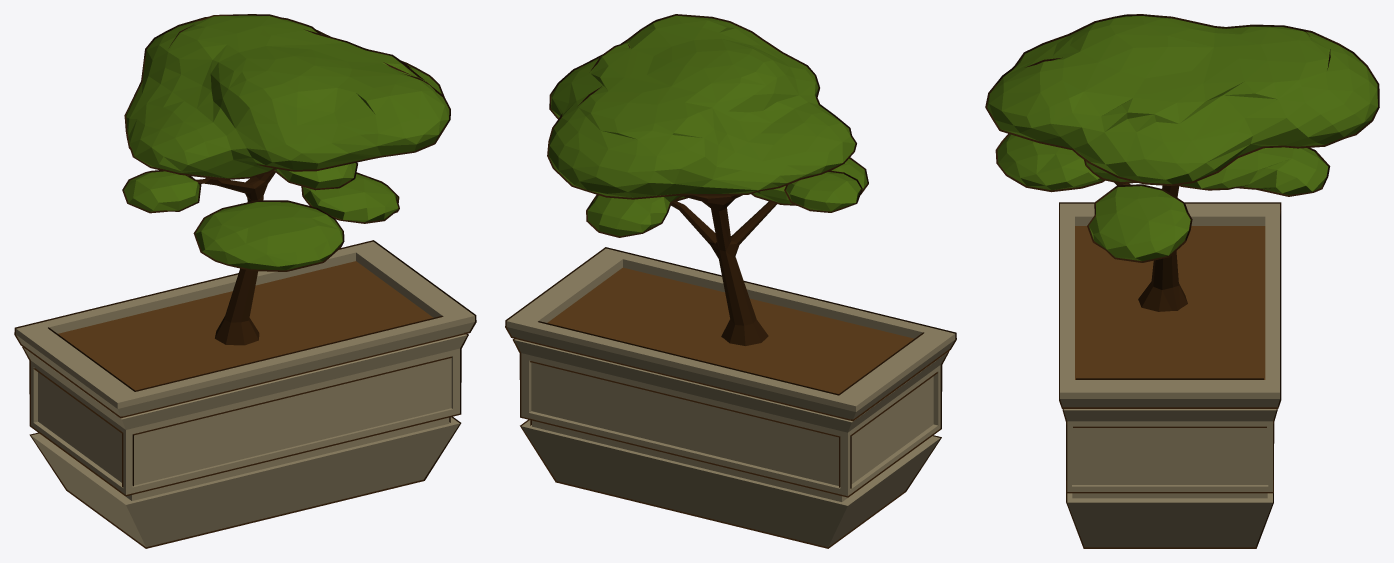
The model's file is BonsaiPot_(Outlined)_v002.fbx.
The picture shows the model from 3 angles, left to right: view 1: azimuth 30°, elevation 25°; view 2: azimuth 150°, elevation 25°; view 3: azimuth 270°, elevation 25°; orthographic projection. The views are drawn at different scales.
Parts seen in each view (by area): view 1: Tree.002; view 2: Tree.002; view 3: Tree.002.
Part boxes in pixels (x1,y1,x2,y2): Tree.002: [14, 14, 476, 548]; Tree.002: [505, 14, 956, 548]; Tree.002: [985, 14, 1379, 548].
Bounding box in the file's own units: 478 × 534 × 417.
